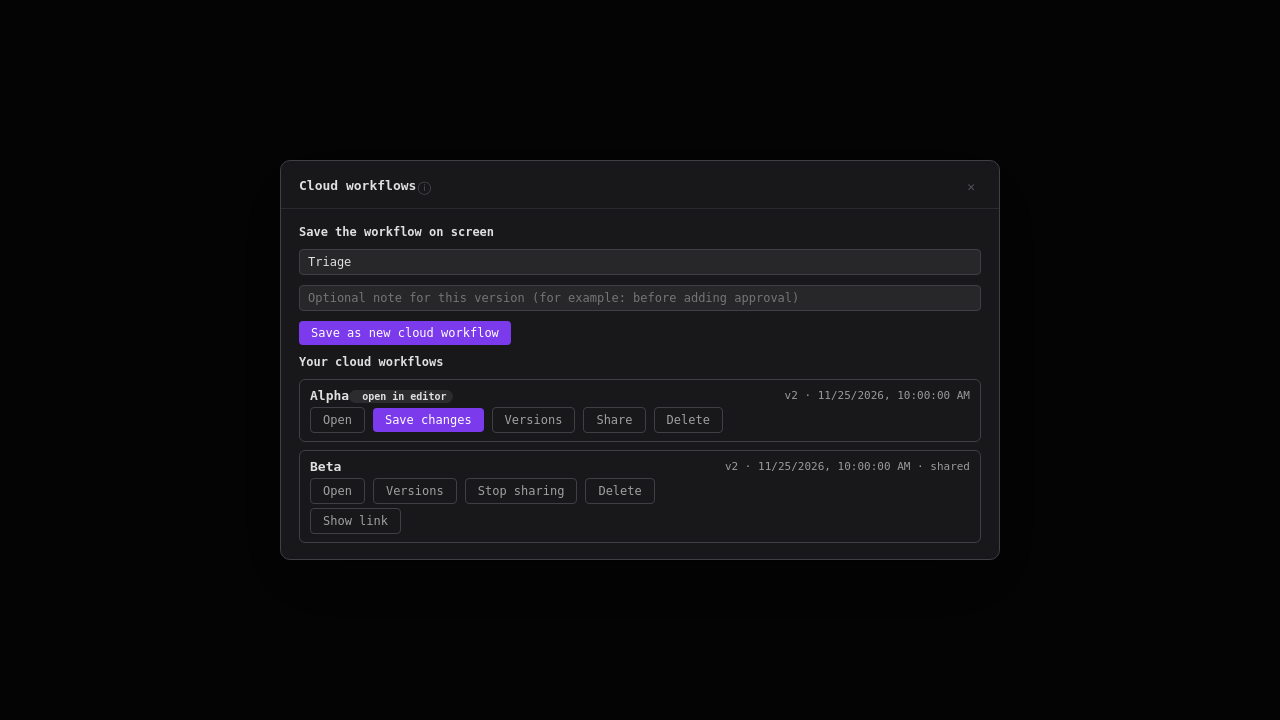
CloudModal — list and save › reports the new version number after a changing save
Click the button with aria-label "Save to Alpha": (428, 420) [373,408,484,432]
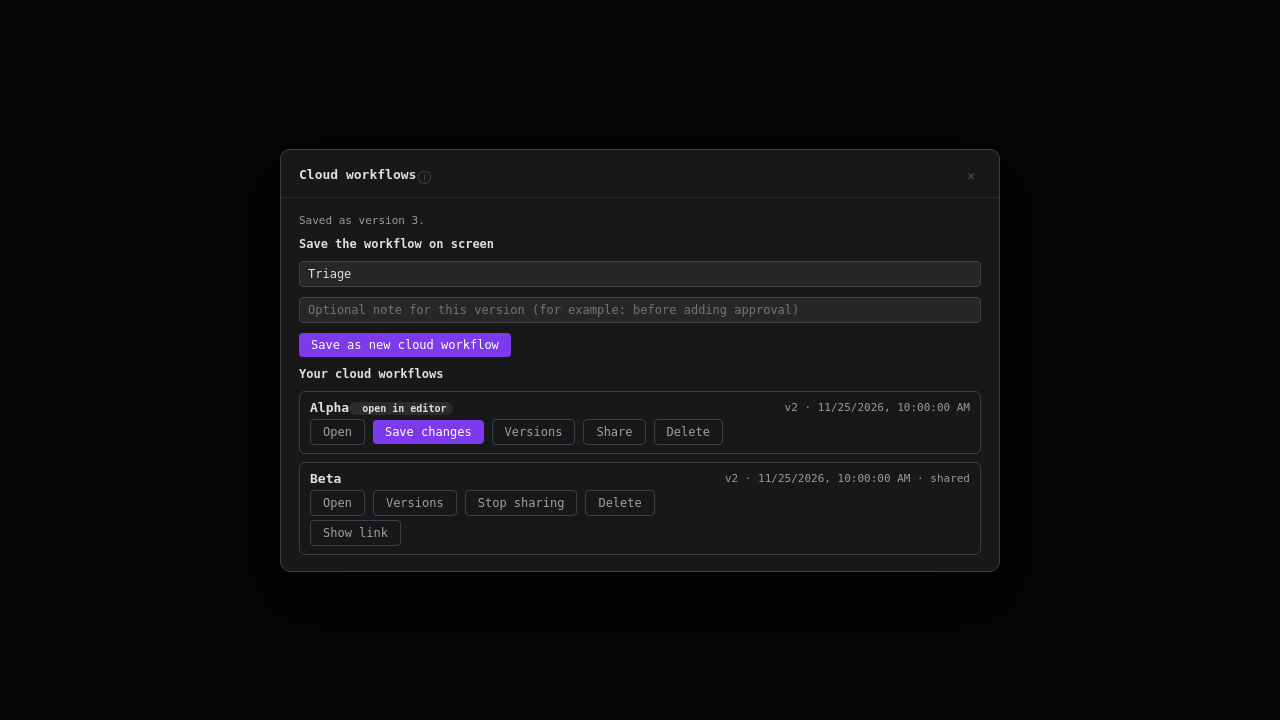
Expected: the message reads "Saved as version 3.", [299,214,425,226]
